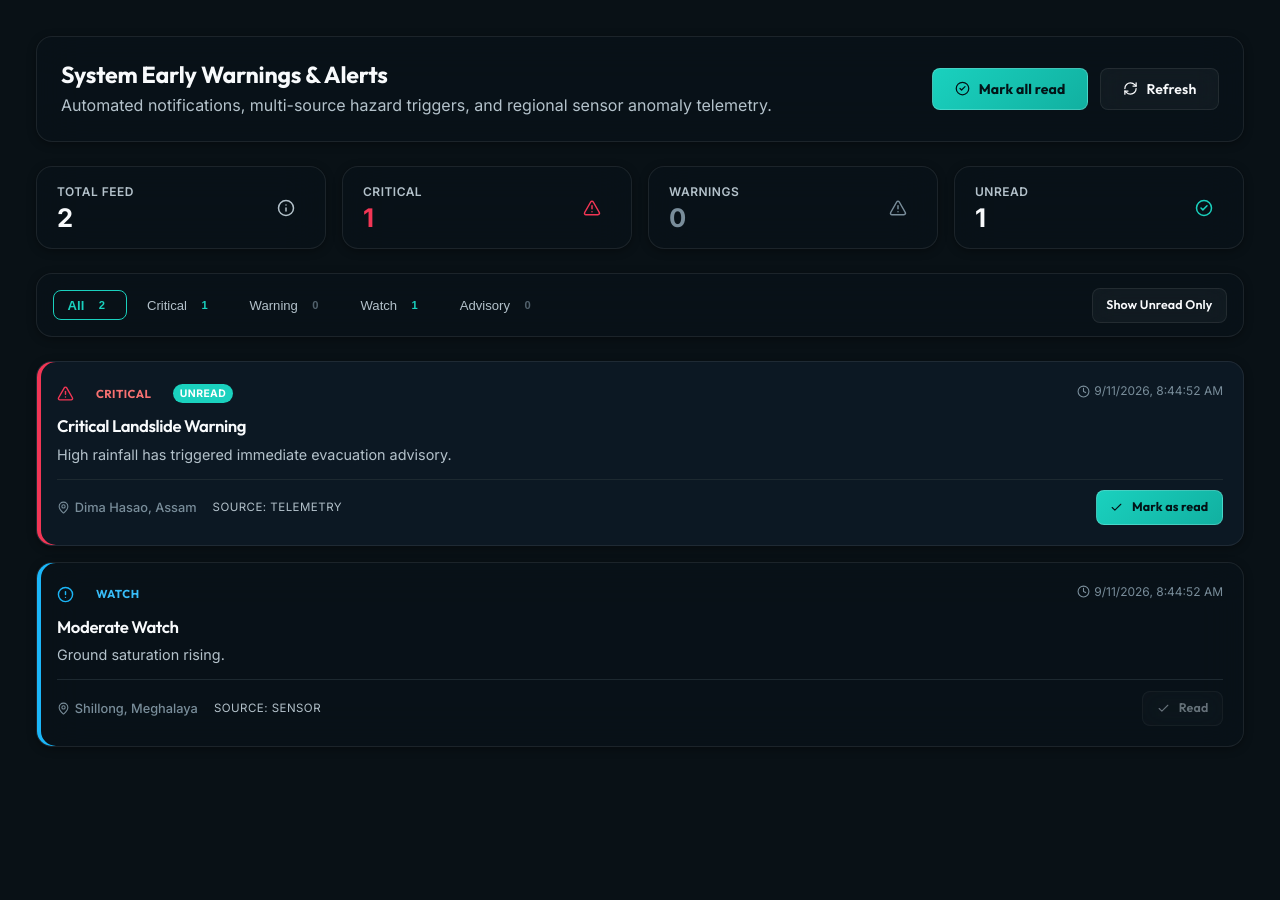
Test case: Alerts Component › filters by severity tab
The image size is (1280, 900).
Expected: the heading "Critical Landslide Warning" is shown, [57, 415, 246, 436]
# Click on 'Watch' filter
Click the tab "Watch 1" at point(393, 305), box [346, 290, 440, 320]
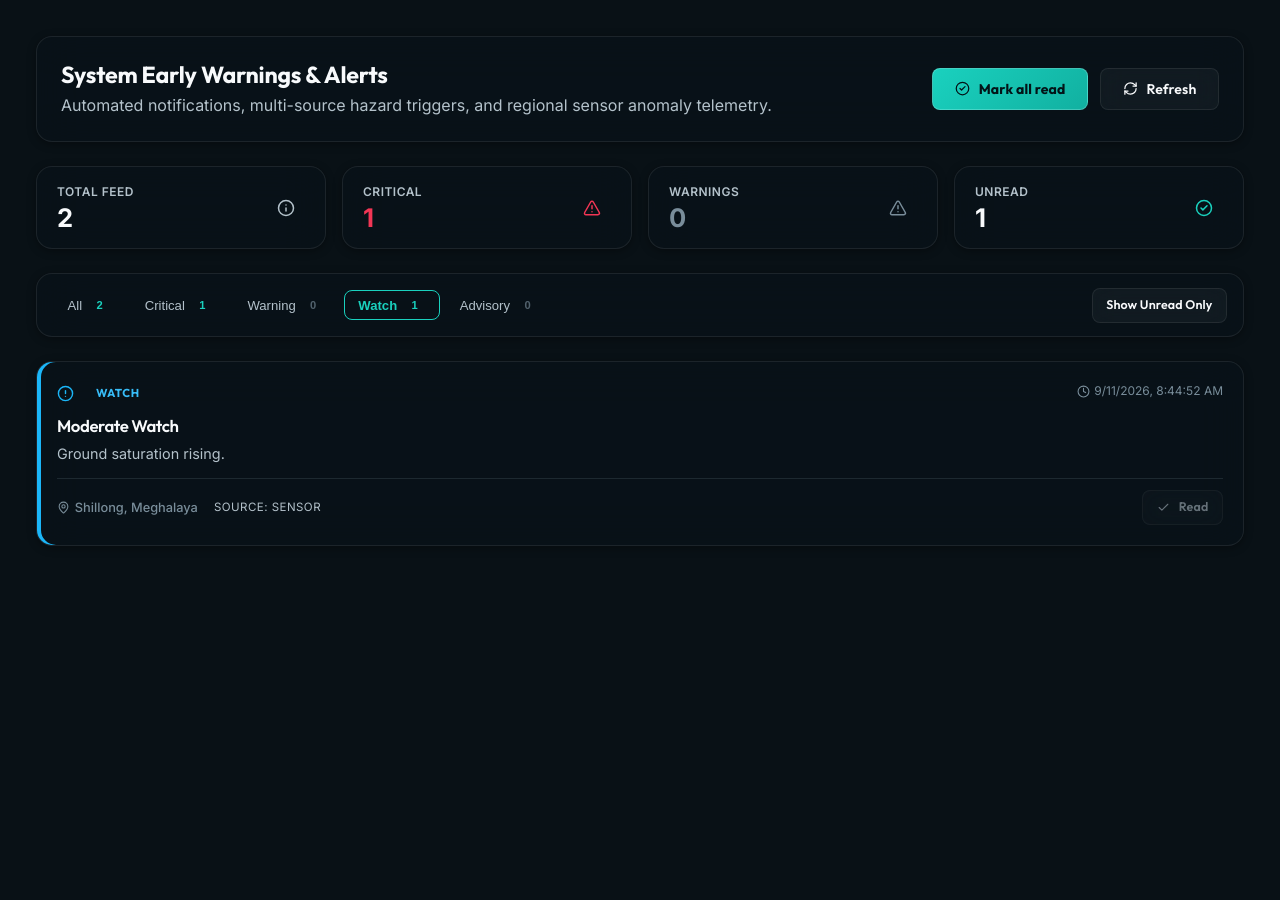
Expected: the heading "Moderate Watch" is shown, [57, 415, 179, 436]
Result: the heading "Critical Landslide Warning" is gone
